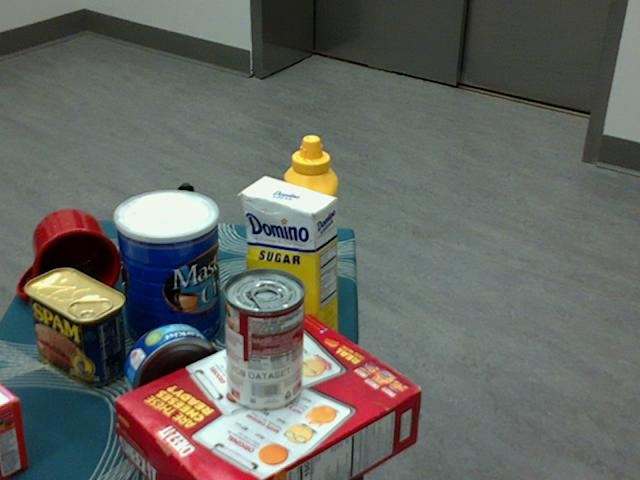cracker_box: (116, 314, 422, 479)
gelatin_box: (0, 381, 28, 476)
large_marker: (177, 182, 197, 279)
master_chef_can: (112, 190, 220, 355)
mug: (19, 209, 120, 306)
mustard_bottle: (281, 134, 336, 312)
potted_meat_can: (24, 266, 126, 385)
sugar_box: (241, 175, 337, 363)
tomato_soup_can: (221, 269, 304, 412)
tuna_fish_can: (124, 323, 222, 419)
